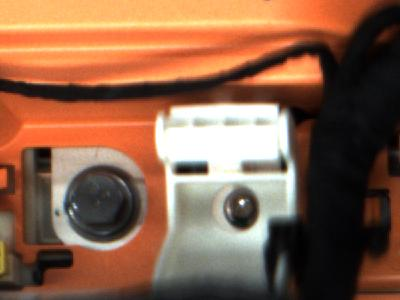nut_b: (51, 149, 152, 249)
